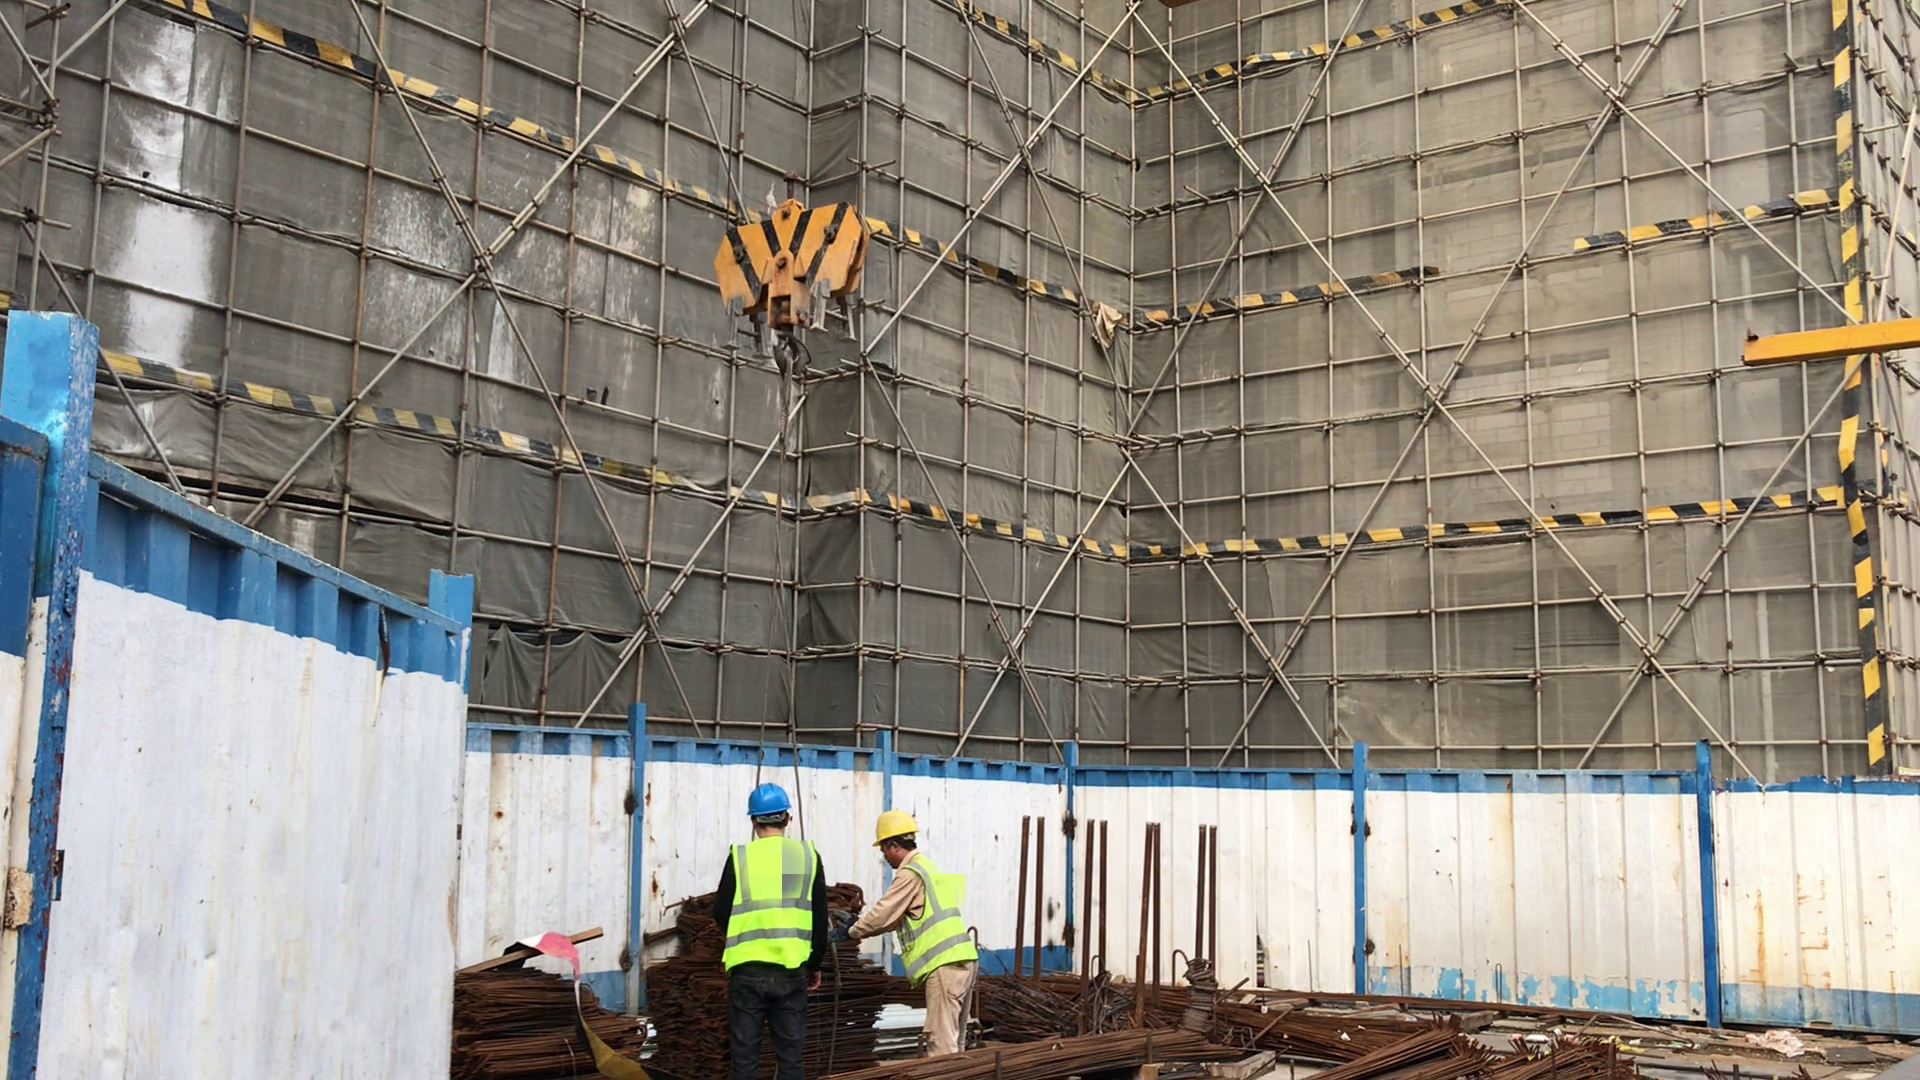helmet: (871, 811, 920, 847), (747, 784, 789, 816)
hook: (713, 199, 869, 374)
person: (712, 784, 823, 1080), (856, 810, 973, 1064)
rebar: (884, 1034, 1206, 1080), (1316, 1041, 1624, 1079)
vest: (725, 843, 815, 969), (893, 858, 974, 974)
